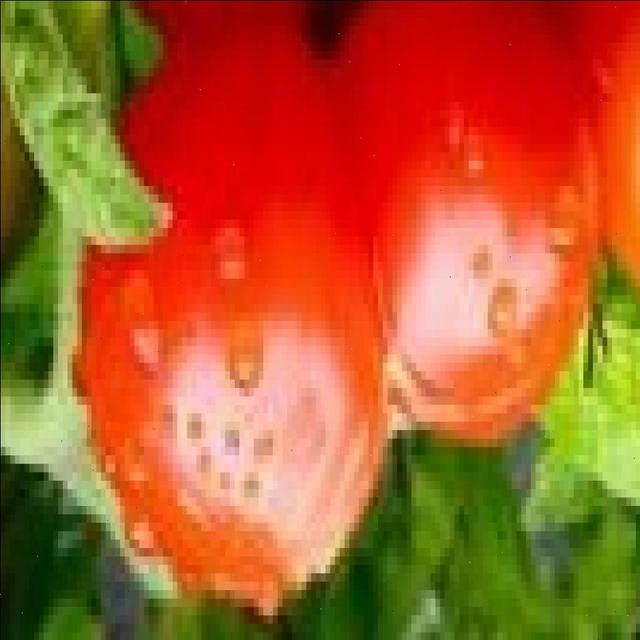Healthy Fruit: (157, 149, 321, 368)
